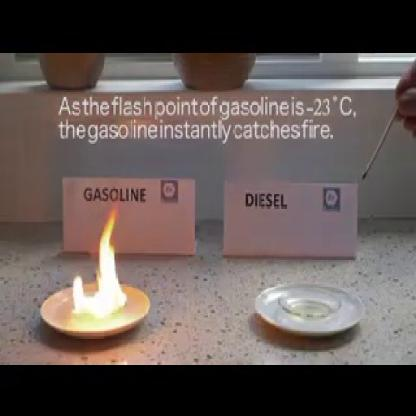fire: (69, 201, 130, 322)
